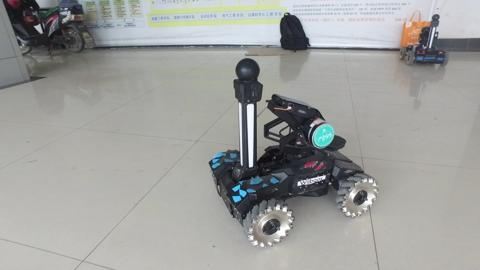bag: (276, 11, 311, 52), (401, 8, 431, 49)
chariot: (207, 55, 380, 249), (397, 12, 448, 68)
